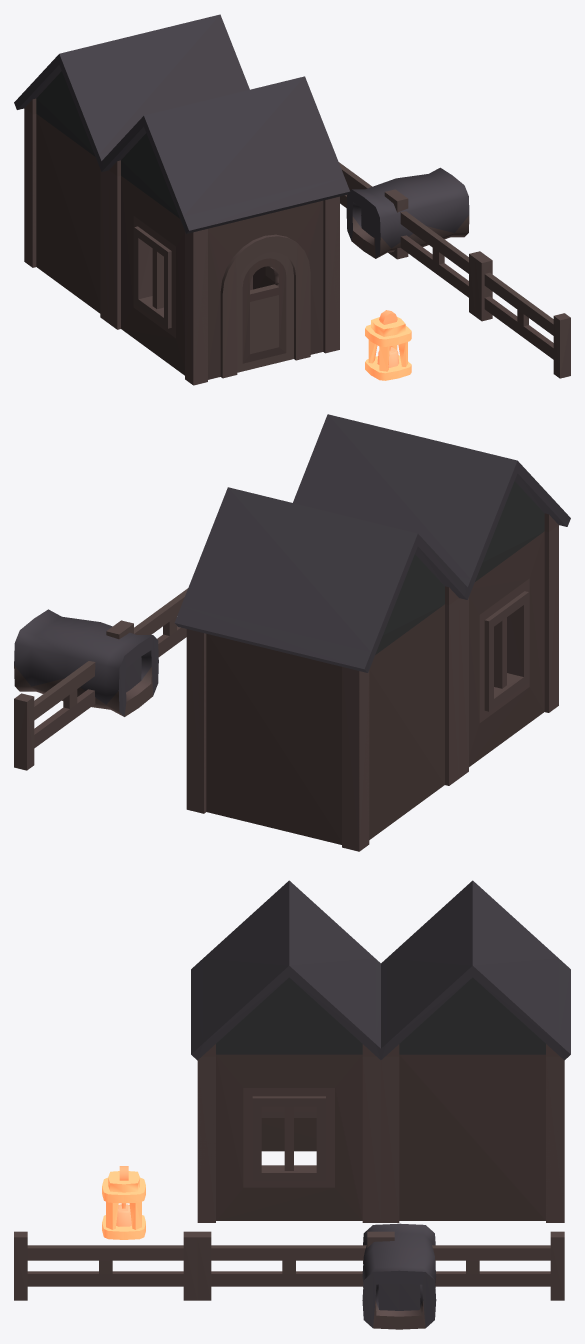
Rendered from bloodfarm_l1.glb.
3 views of the same model, one above another, from view 1: azimuth 30°, elevation 25°; view 2: azimuth 150°, elevation 25°; view 3: azimuth 270°, elevation 25° (orthographic). The views are drawn at different scales.
Parts seen in each view (by area): view 1: bloodfarm_l1; view 2: bloodfarm_l1; view 3: bloodfarm_l1.
Boxes of the visible parts, left/top/right/bottom form: bloodfarm_l1: left=14, top=14, right=570, bottom=385; bloodfarm_l1: left=14, top=414, right=570, bottom=851; bloodfarm_l1: left=14, top=880, right=570, bottom=1329.
Bounding box in the file's own units: 4.66 × 2.98 × 5.77.
